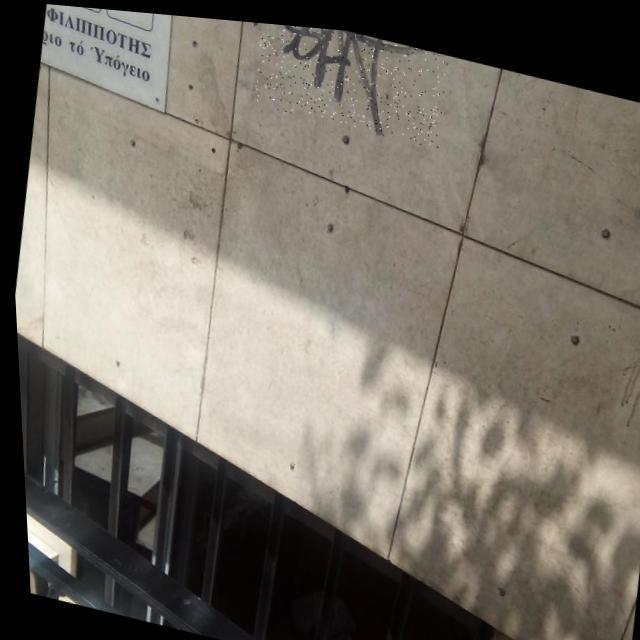-: (249, 18, 452, 142)
